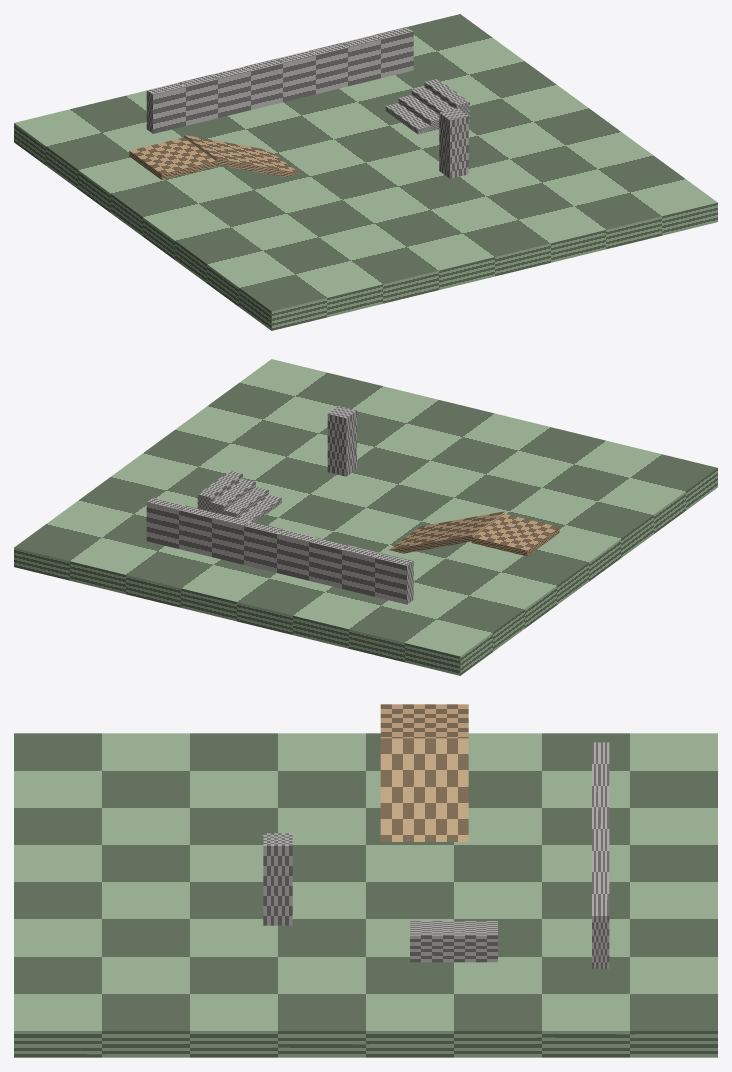
The model's file is level.glb.
3 renders of one model, top to bottom at view 1: azimuth 30°, elevation 25°; view 2: azimuth 150°, elevation 25°; view 3: azimuth 270°, elevation 25°, orthographic. The views are drawn at different scales.
Parts seen in each view (by area): view 1: Floor, Wall, Deck, Ramp, Pillar, Step4, Step2, Step1, Step3; view 2: Floor, Wall, Deck, Ramp, Pillar, Step4, Step3, Step2, Step1; view 3: Floor, Ramp, Wall, Step4, Deck, Pillar.
Boxes of the visible parts, <box> form: Floor: <box>14,14,717,330</box>; Wall: <box>146,27,413,133</box>; Deck: <box>129,137,217,179</box>; Ramp: <box>184,135,299,176</box>; Pillar: <box>439,108,468,178</box>; Step4: <box>424,78,469,121</box>; Step2: <box>398,95,439,130</box>; Step1: <box>385,103,430,134</box>; Step3: <box>411,86,454,114</box>; Floor: <box>14,359,717,675</box>; Wall: <box>146,497,413,604</box>; Deck: <box>471,514,559,556</box>; Ramp: <box>389,511,504,553</box>; Pillar: <box>327,406,356,476</box>; Step4: <box>197,471,242,511</box>; Step3: <box>210,479,255,514</box>; Step2: <box>223,487,268,517</box>; Step1: <box>237,495,281,522</box>; Floor: <box>14,733,717,1057</box>; Ramp: <box>380,738,468,841</box>; Wall: <box>592,742,609,968</box>; Step4: <box>410,927,497,962</box>; Deck: <box>380,704,468,738</box>; Pillar: <box>263,833,292,925</box>.
Bounding box in the file's own units: 24 × 4 × 24.
Materials: 3 (3 with a texture image).
